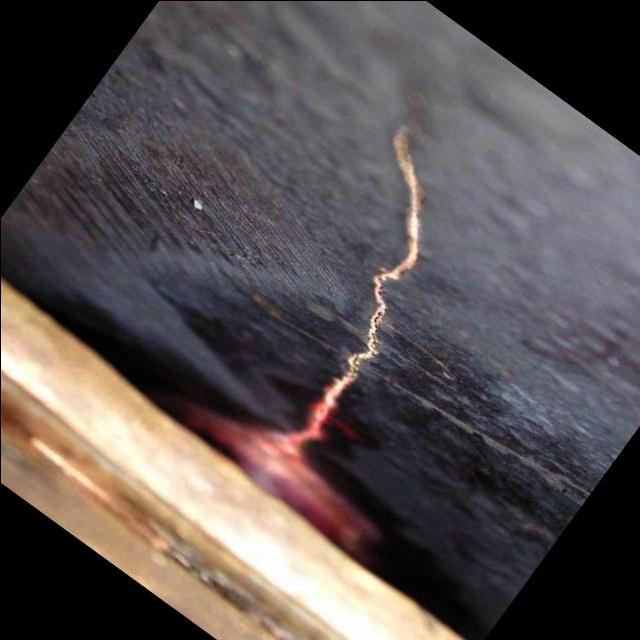defect: (276, 82, 444, 455)
